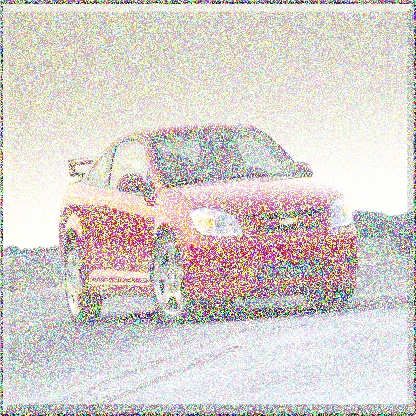Vehicle: (58, 118, 361, 325)
